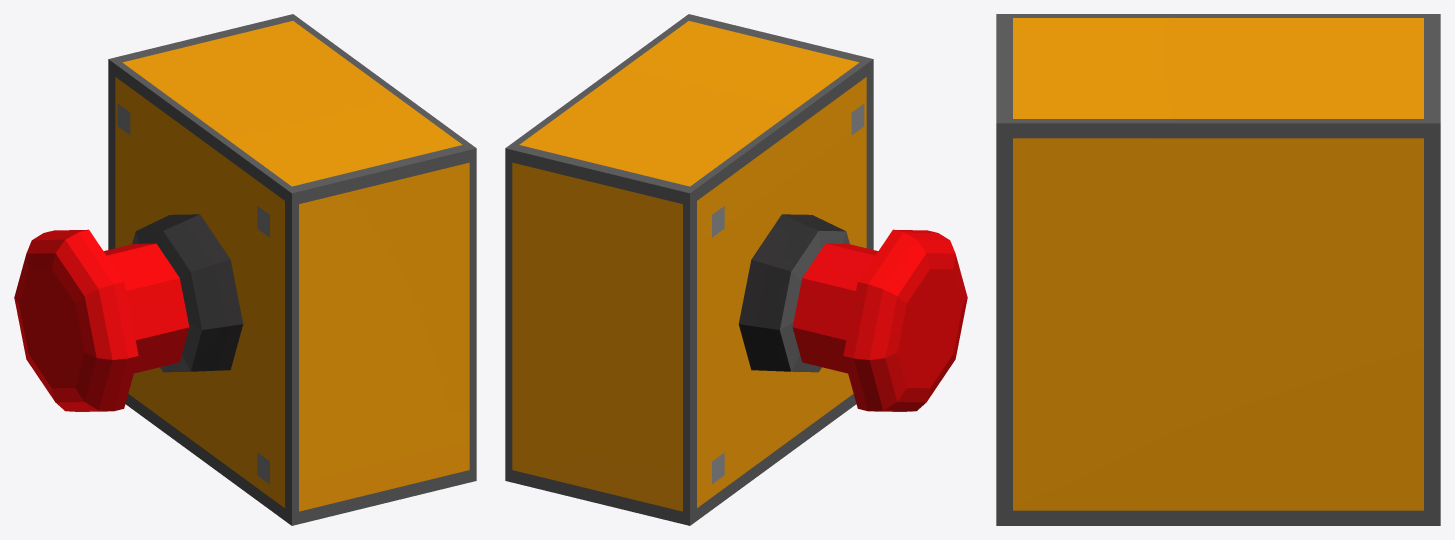
The model's file is emergencyButton.glb.
3 views of the same model, side by side, from view 1: azimuth 30°, elevation 25°; view 2: azimuth 150°, elevation 25°; view 3: azimuth 270°, elevation 25° (orthographic). The views are drawn at different scales.
Parts seen in each view (by area): view 1: Cubo.587; view 2: Cubo.587; view 3: Cubo.587.
Boxes of the visible parts, <box> form: Cubo.587: <box>14,14,476,525</box>; Cubo.587: <box>505,14,967,525</box>; Cubo.587: <box>996,14,1440,525</box>.
Size of what is drawn, in the model's own units: 0.2228 by 0.2126 by 0.2126.
1 material, 1 textured.
